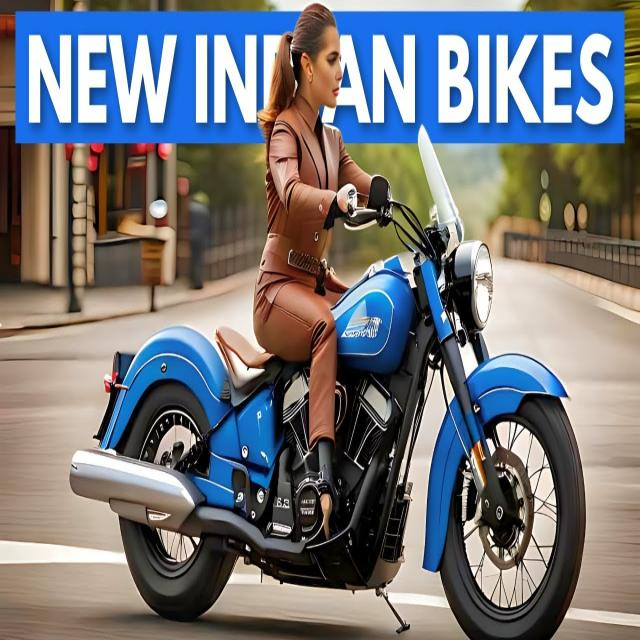motorcycle: (70, 4, 585, 638)
